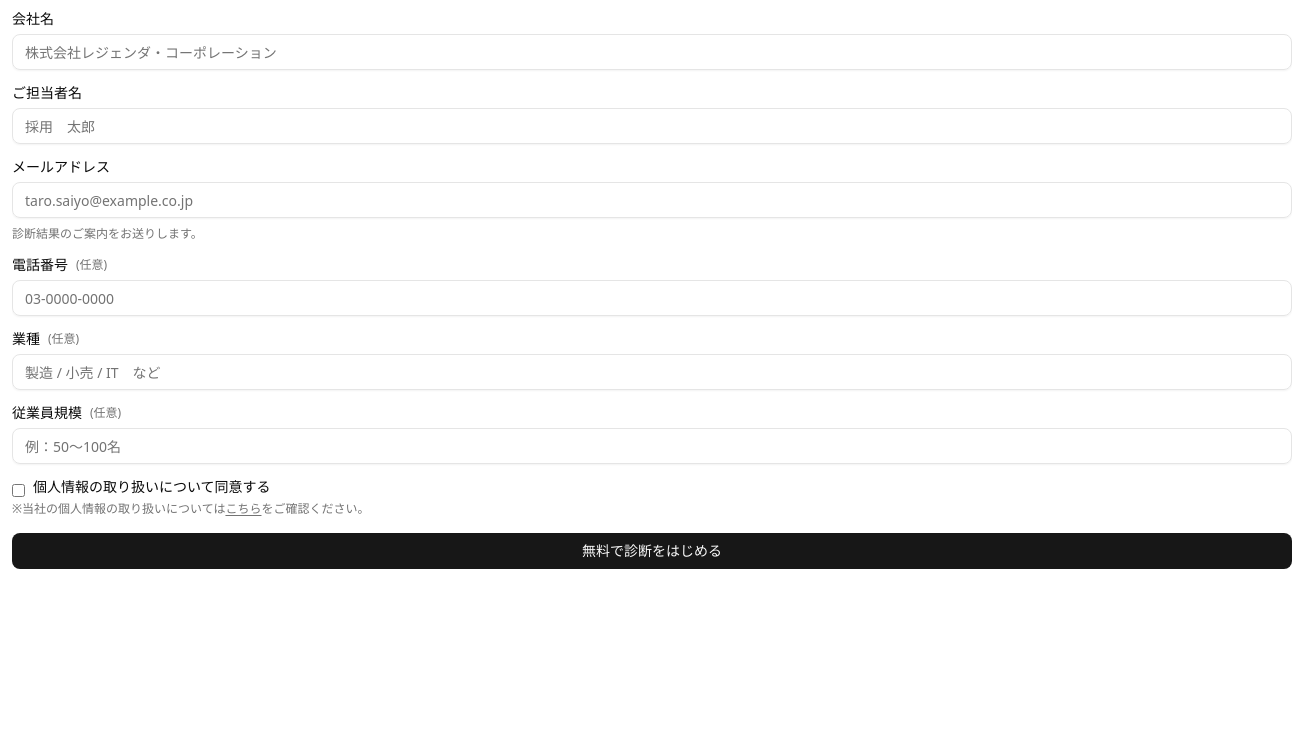
Test case: LeadOnboardingForm › shows validation errors when required fields and privacy agreement are missing
Click the button "無料で診断をはじめる": (652, 551) [12,533,1292,569]
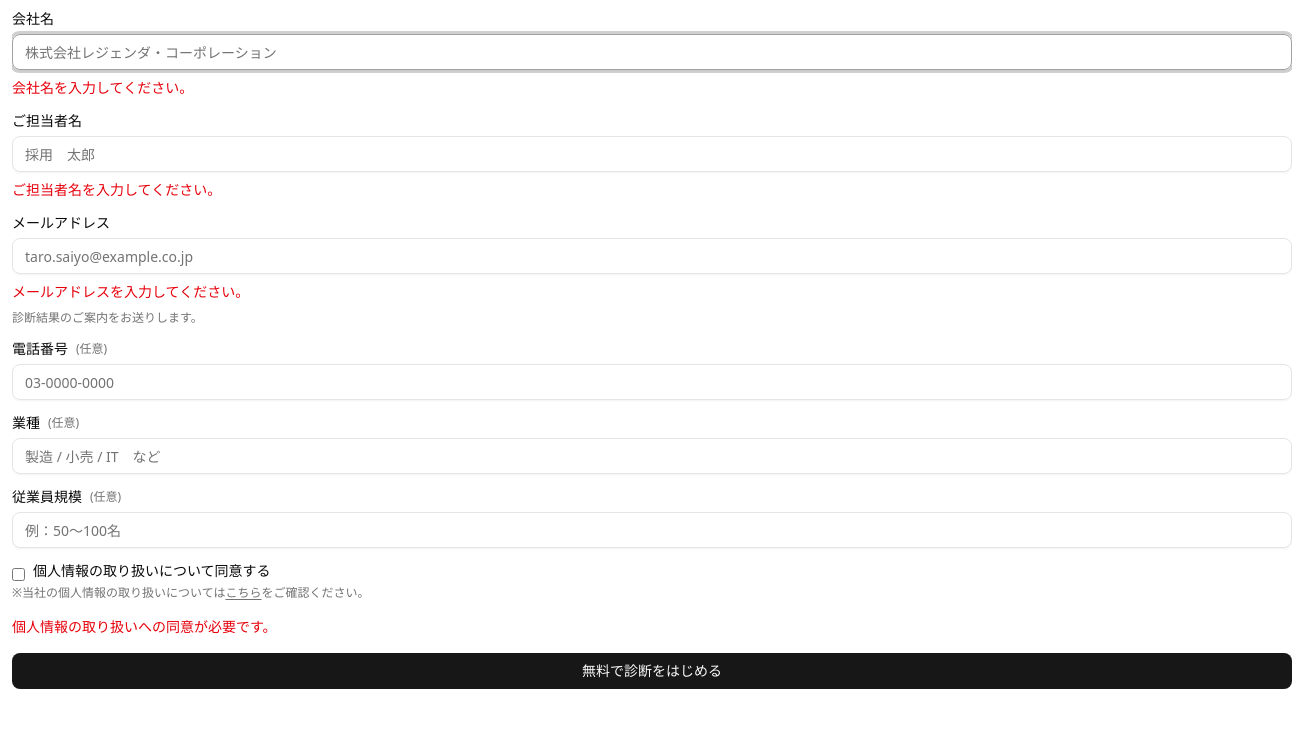
Now the text "会社名を入力してください。" is shown, box [12,78,193,97]
Now the text "ご担当者名を入力してください。" is shown, box [12,180,221,199]
Now the text "メールアドレスを入力してください。" is shown, box [12,282,249,301]
